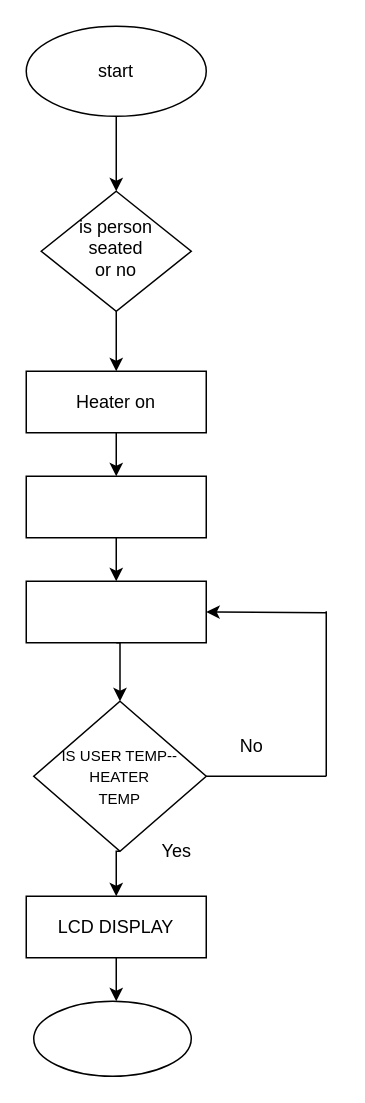
The diagram is 365 pixels wide and 1103 high, and some of its shapes have lost their labels. Each missing label, with the centre of its shape:
"END" goes at pixel 111 1038.
"Set heater" goes at pixel 115 611.
"Temperature request" goes at pixel 115 506.
